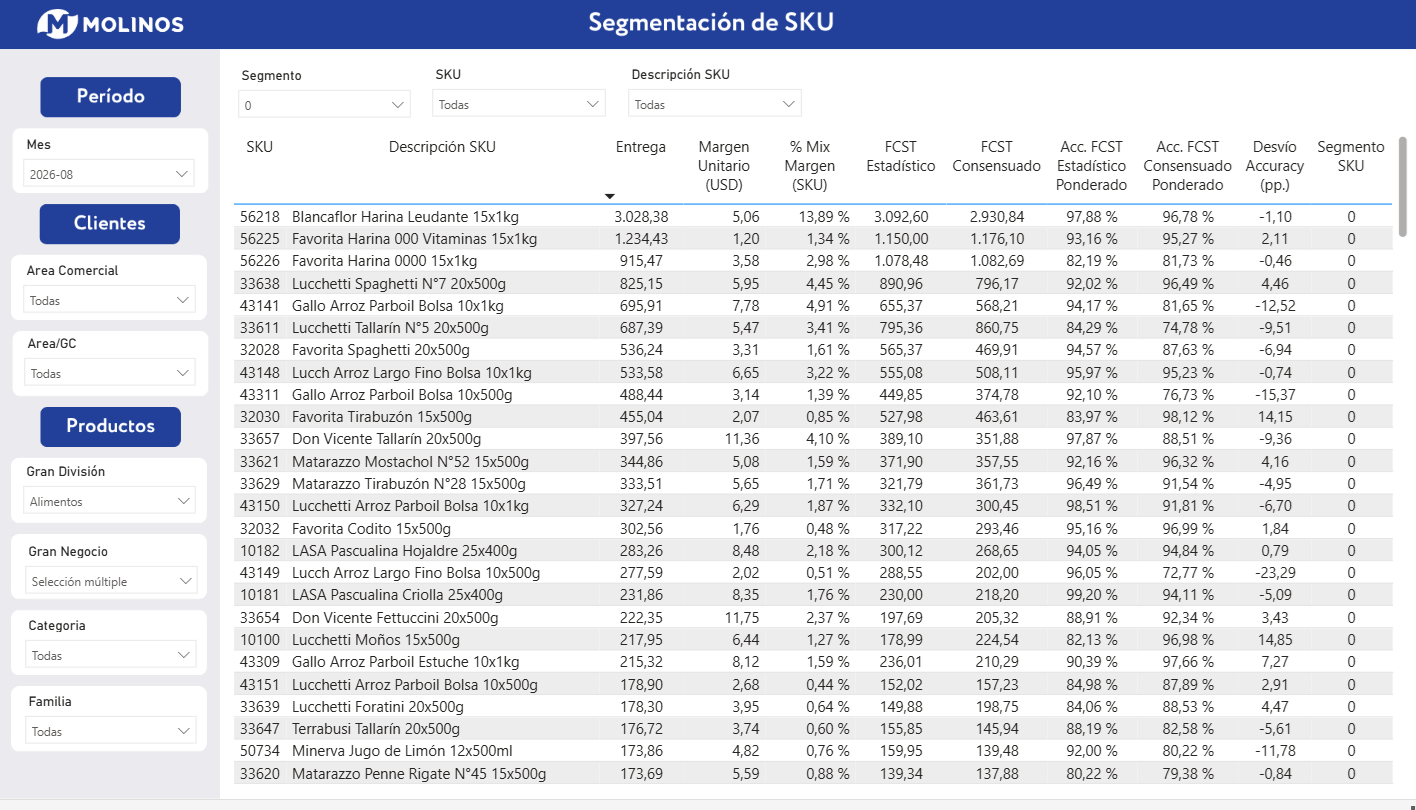

What the dashboard file says about the page in this screenshot:
{"tool":"powerbi","page":{"name":"Segmentación SKU","canvas":[1280,720],"ordinal":1},"visuals":[{"type":"tableEx","fields":{"Values":["ZPRODUCT.Product ID","ZPRODUCT.Product Desc","Medidas.Histórico AVG (PRDID)","Sum(IBP - Margen.Margen Unitario (USD))","Medidas.% Mix Margen (SKU)","Medidas.FCST Estadístico AVG (PRDID)","Medidas.FCST Consensuado AVG (PRDID)","Medidas.Acc. FCST Estadístico (Ponderado por Mes)","Medidas.Acc. FCST Consensuado (Ponderado por Mes)","Medidas.Desvío Accuracy (pp.)","Medidas.Segmento SKU (Dinámico)"]},"box":[205,119.7,1065.2,594.4],"z":0},{"type":"slicer","fields":{"Values":["ZPRODUCT.Product ID"]},"box":[378.9,57.8,175.6,54.4],"z":1000},{"type":"slicer","fields":{"Values":["ZCUSTOMER.Area Comercial"]},"box":[11.8,233.6,174.5,53.6],"z":2000},{"type":"slicer","fields":{"Values":["ZCUSTOMER.Area/GC"]},"box":[12.7,299.1,173.6,53.6],"z":3000},{"type":"slicer","fields":{"Values":["Calendario.AñoMes"]},"box":[11.8,120,173.6,53.6],"z":4000},{"type":"slicer","fields":{"Values":["DimSegmento.Segmento"]},"box":[204.5,58.2,174.5,53.6],"z":5000},{"type":"slicer","fields":{"Values":["ZPRODUCT.Product Desc"]},"box":[554.4,57.8,175.6,53.3],"z":6000},{"type":"slicer","fields":{"Values":["ZPRODUCT.Gran División"]},"box":[11.8,413.6,175.5,53.6],"z":7000},{"type":"slicer","fields":{"Values":["ZPRODUCT.Gran Negocio"]},"box":[13.6,485.5,175.5,53.6],"z":8000},{"type":"slicer","fields":{"Values":["AWS - Categoria.grupo_material_3"]},"box":[13.6,551.8,173.6,54.5],"z":9000},{"type":"slicer","fields":{"Values":["IBP - Product.Familia"]},"box":[13.6,620,173.6,54.5],"z":10000}]}

Visuals, with their boxes in screenshot pixels (x1, y1, x2, y2), scaled from the page's 1280x720 canvas onto the 1416x810 screenshot:
tableEx - ZPRODUCT.Product ID x ZPRODUCT.Product Desc: <bbox>227, 135, 1405, 803</bbox>
slicer - ZPRODUCT.Product ID: <bbox>419, 65, 613, 126</bbox>
slicer - ZCUSTOMER.Area Comercial: <bbox>13, 263, 206, 323</bbox>
slicer - ZCUSTOMER.Area/GC: <bbox>14, 336, 206, 397</bbox>
slicer - Calendario.AñoMes: <bbox>13, 135, 205, 195</bbox>
slicer - DimSegmento.Segmento: <bbox>226, 65, 419, 126</bbox>
slicer - ZPRODUCT.Product Desc: <bbox>613, 65, 808, 125</bbox>
slicer - ZPRODUCT.Gran División: <bbox>13, 465, 207, 526</bbox>
slicer - ZPRODUCT.Gran Negocio: <bbox>15, 546, 209, 606</bbox>
slicer - AWS - Categoria.grupo_material_3: <bbox>15, 621, 207, 682</bbox>
slicer - IBP - Product.Familia: <bbox>15, 698, 207, 759</bbox>
